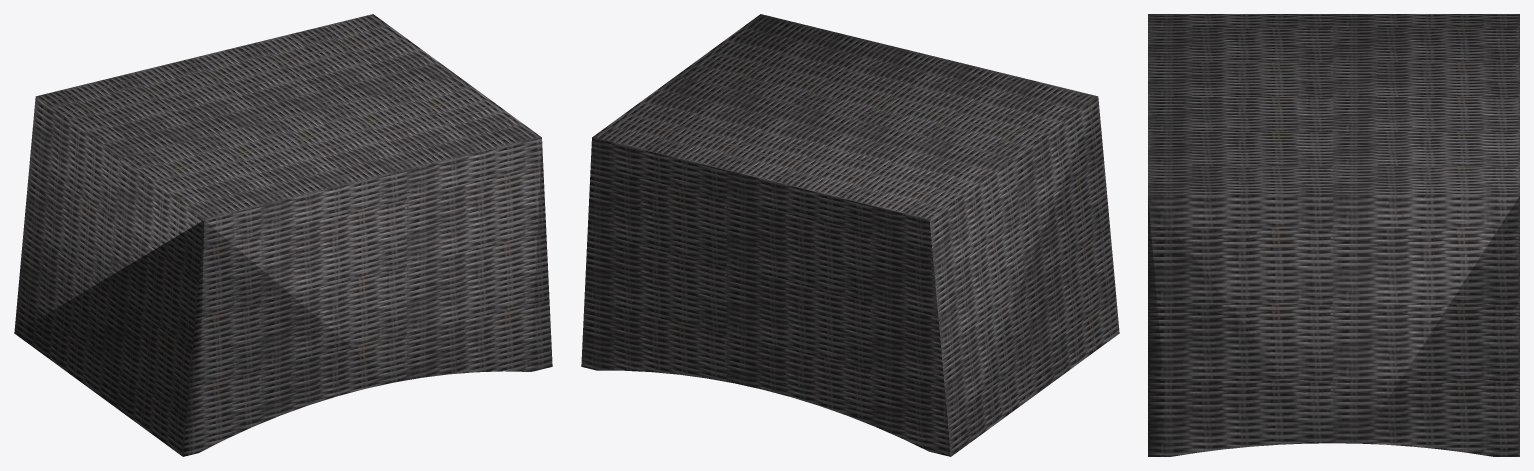
3 views of the same model, side by side, from view 1: azimuth 30°, elevation 25°; view 2: azimuth 150°, elevation 25°; view 3: azimuth 270°, elevation 25° (orthographic). The views are drawn at different scales.
Parts seen in each view (by area): view 1: base_mesh16_mesh16-geometry; view 2: base_mesh16_mesh16-geometry; view 3: base_mesh16_mesh16-geometry.
Part boxes in pixels (bbox=[...]): base_mesh16_mesh16-geometry: bbox=[14, 14, 552, 456]; base_mesh16_mesh16-geometry: bbox=[581, 14, 1119, 456]; base_mesh16_mesh16-geometry: bbox=[1148, 14, 1519, 456].
Bounding box in the file's own units: 0.4638 × 0.2781 × 0.3667.
